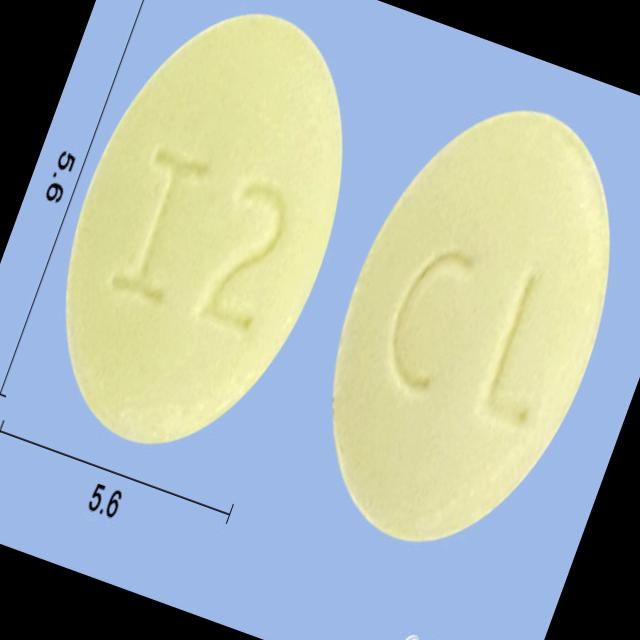Immuthera - 50mg: (10, 0, 398, 485), (276, 69, 640, 582)
